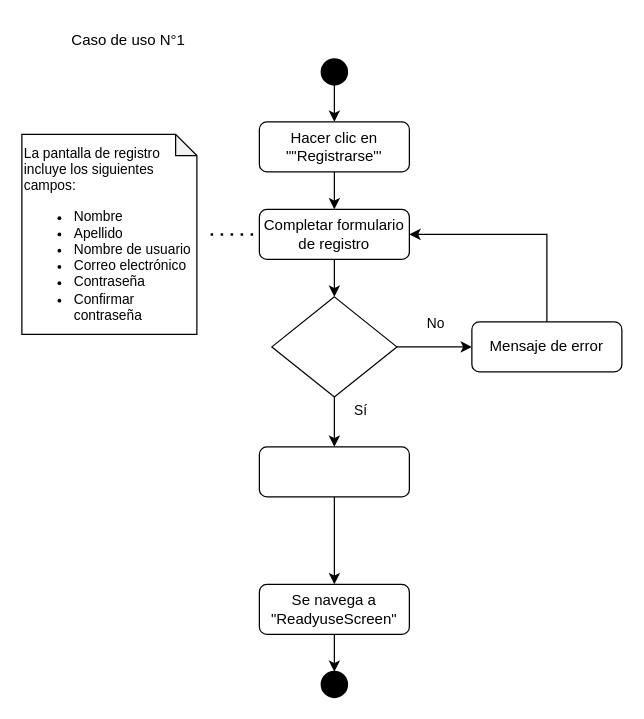
This 644x719 diagram has some shape labels left out. Here are the shapes that lost their labels. From the top down, the box of each, then its label:
(271, 296, 397, 397): ¿Datos correctos?
(258, 446, 409, 497): Usuario registrado con éxito
